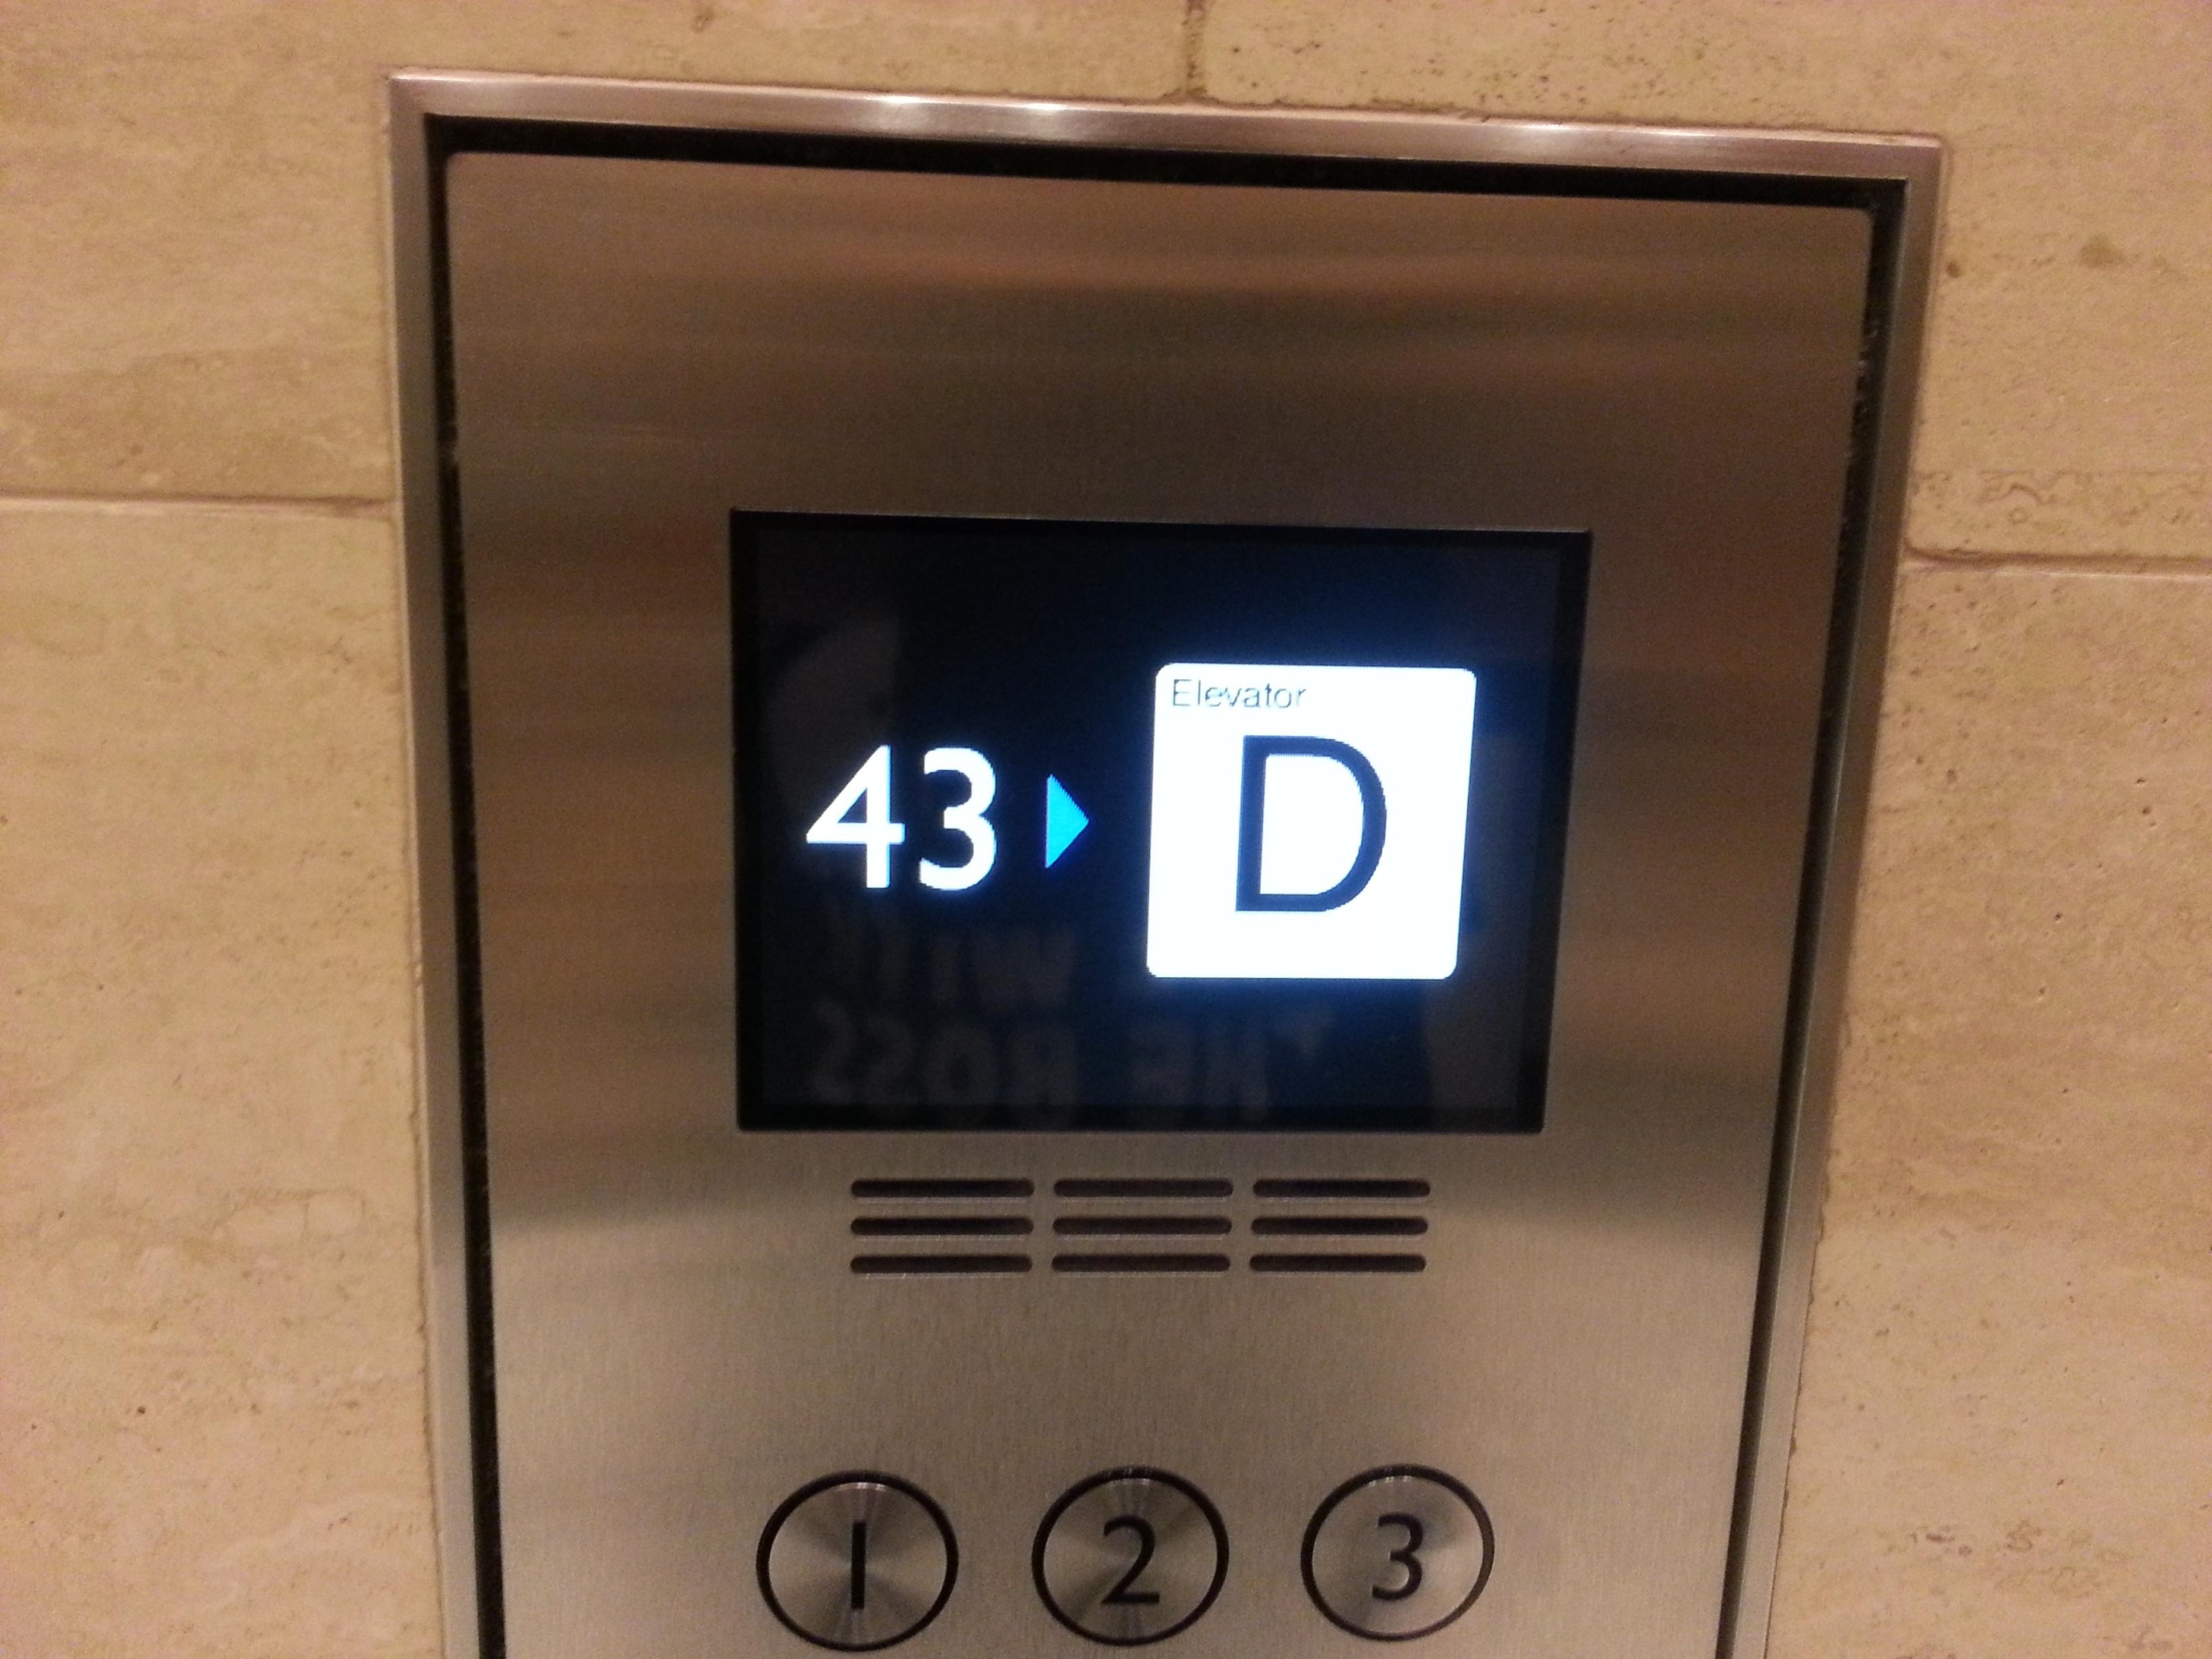1: (758, 1471, 960, 1650)
2: (1031, 1466, 1230, 1649)
3: (1301, 1466, 1493, 1643)
led: (730, 505, 1594, 1140)
